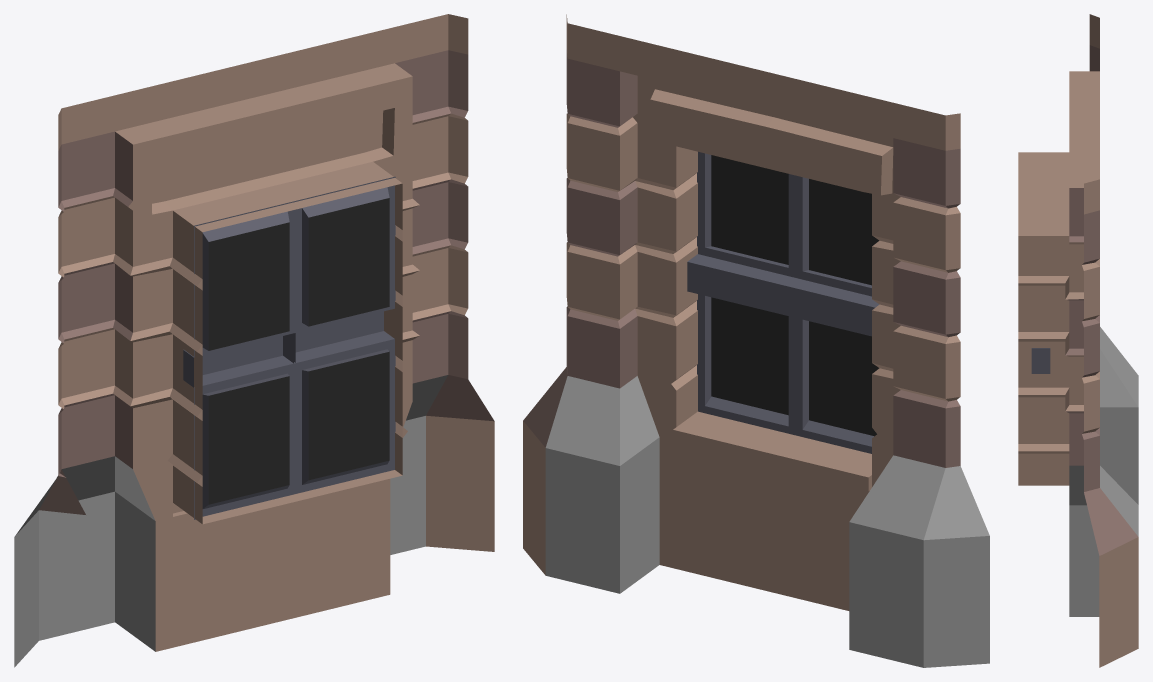
File: facade_a.gltf
3 renders of one model, left to right at view 1: azimuth 30°, elevation 25°; view 2: azimuth 150°, elevation 25°; view 3: azimuth 270°, elevation 25°, orthographic. The views are drawn at different scales.
Parts seen in each view (by area): view 1: Cube.001; view 2: Cube.001; view 3: Cube.001.
Boxes of the visible parts, x1,y1,x2,y2 form: Cube.001: [14, 14, 494, 667]; Cube.001: [523, 14, 989, 667]; Cube.001: [1018, 14, 1138, 667].
Size of the model in its own units: 4.19 by 4.59 by 1.06.
